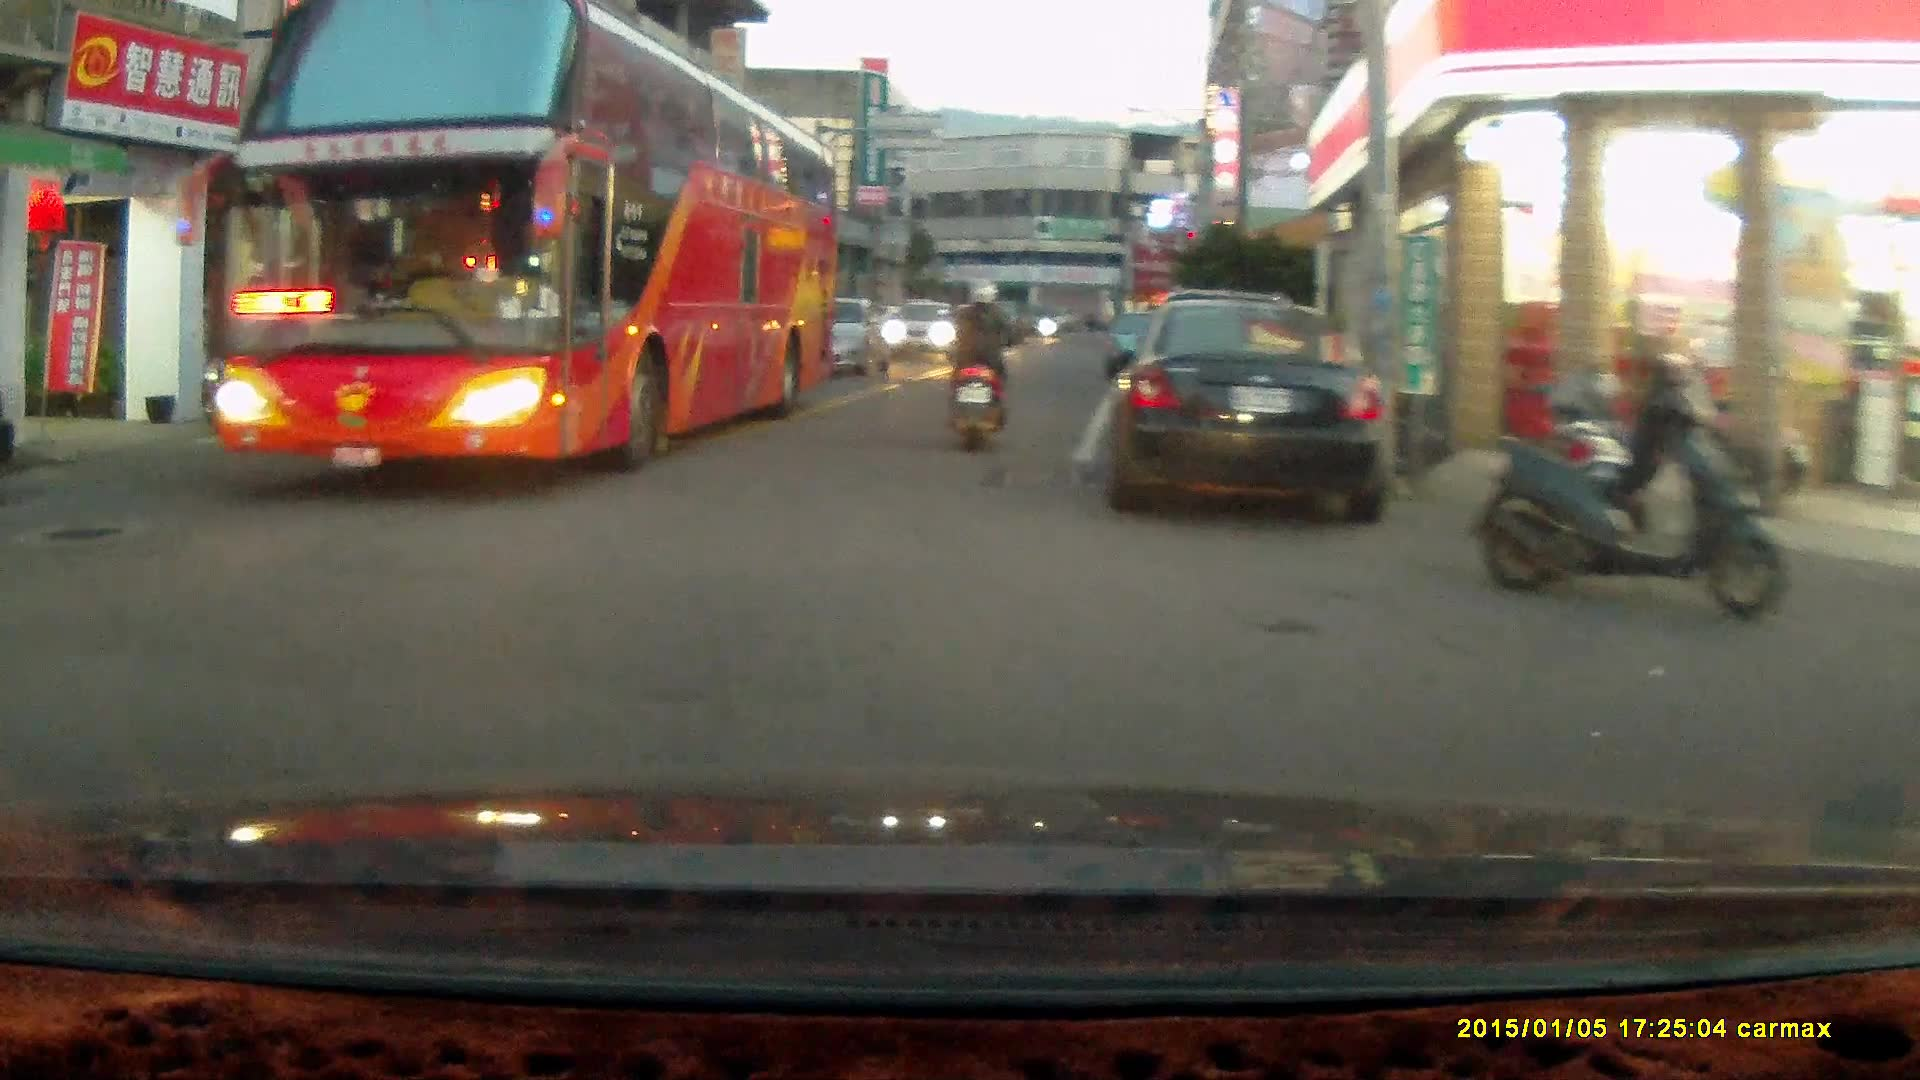rider: (940, 274, 1016, 454)
vehicle: (213, 1, 846, 479), (1086, 292, 1390, 523), (809, 296, 893, 379)
